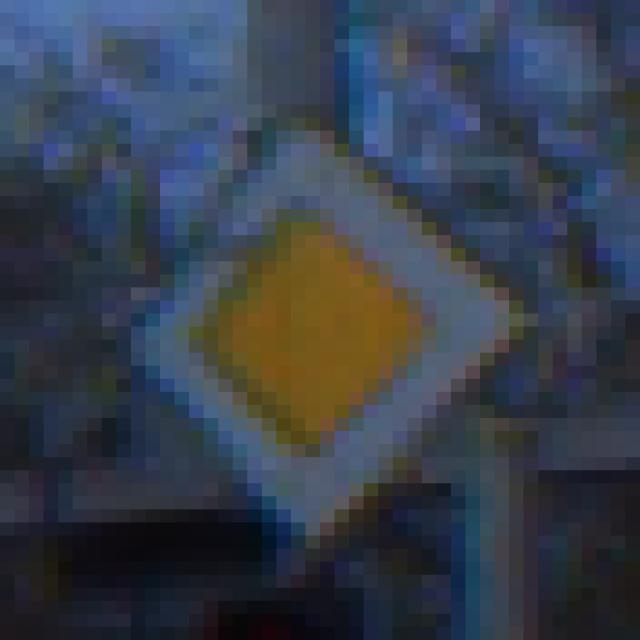Main Road: (89, 79, 569, 576)
